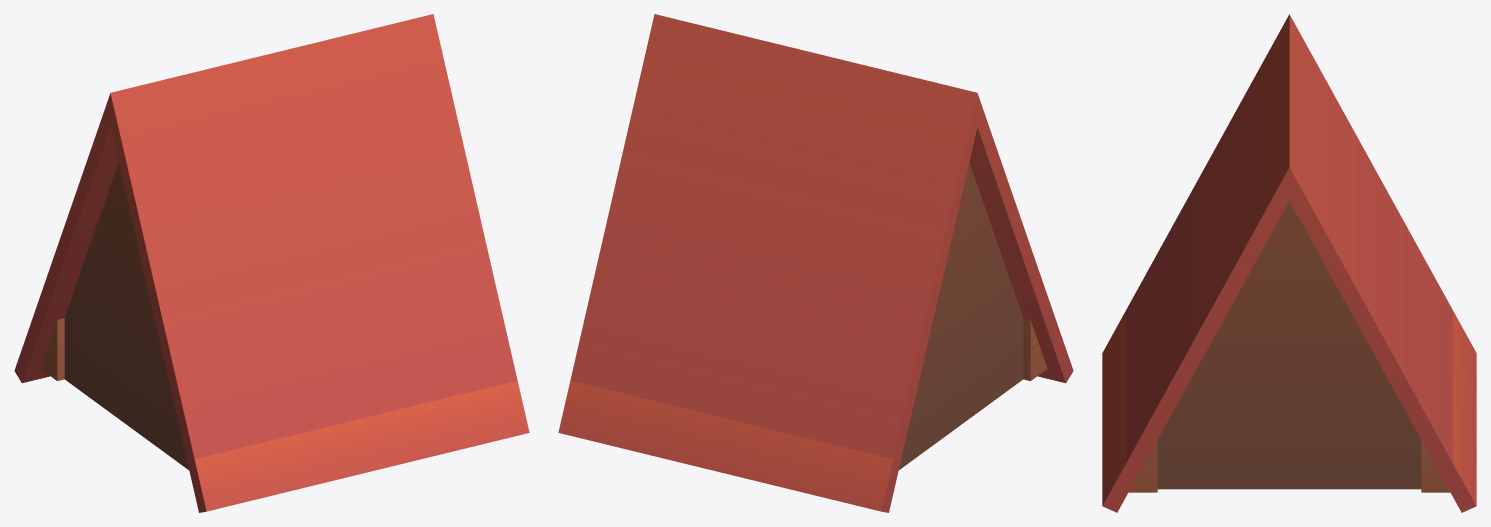
The model's file is roofHighGable.fbx.
The picture shows the model from 3 angles, left to right: view 1: azimuth 30°, elevation 25°; view 2: azimuth 150°, elevation 25°; view 3: azimuth 270°, elevation 25°; orthographic projection. The views are drawn at different scales.
Parts seen in each view (by area): view 1: roofHighGable; view 2: roofHighGable; view 3: roofHighGable.
Part boxes in pixels (x1,y1,x2,y2): roofHighGable: (14,14,529,512); roofHighGable: (558,14,1073,512); roofHighGable: (1102,14,1476,512).
Bounding box in the file's own units: 1.1 × 1.13 × 1.16.
